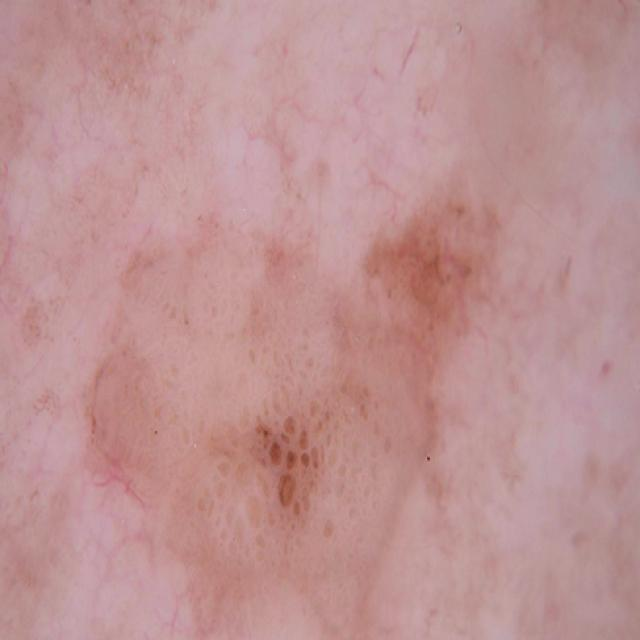Keratosis: (113, 152, 553, 640)
